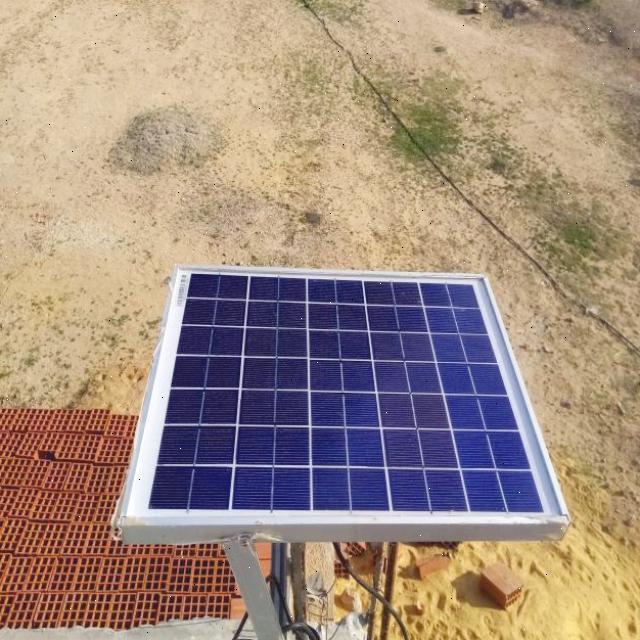Normal Solar Panel: (122, 266, 568, 526)
